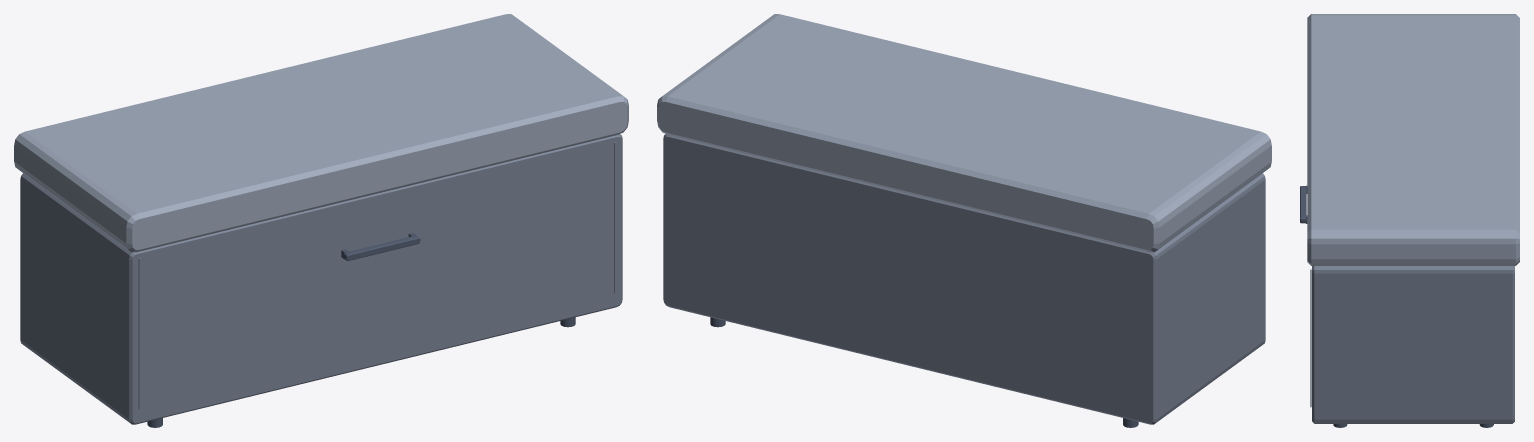
Rendered from bed-storage-chest-lite.glb.
3 renders of one model, left to right at view 1: azimuth 30°, elevation 25°; view 2: azimuth 150°, elevation 25°; view 3: azimuth 270°, elevation 25°, orthographic. The views are drawn at different scales.
Parts seen in each view (by area): view 1: body, soft, dark, accent; view 2: body, soft; view 3: soft, body, dark, accent.
Part boxes in pixels (x1,y1,x2,y2): body: (20,134,622,424); soft: (14,14,628,252); dark: (147,232,575,427); accent: (138,142,616,409); body: (663,134,1265,424); soft: (657,14,1271,252); soft: (1307,14,1519,265); body: (1312,266,1514,423); dark: (1300,185,1493,427); accent: (1310,269,1311,407).
Size of the model in its own units: 1.12 by 0.492 by 0.465.
